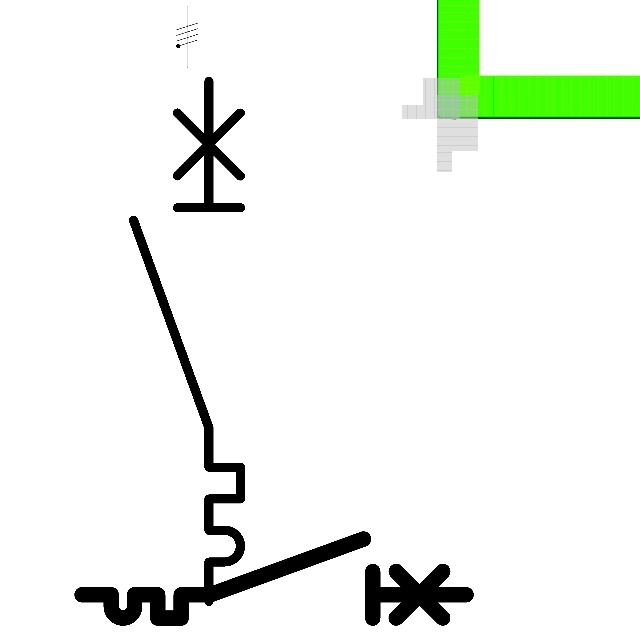interruptor_termomagnetico: (120, 67, 254, 614), (72, 529, 475, 628)
